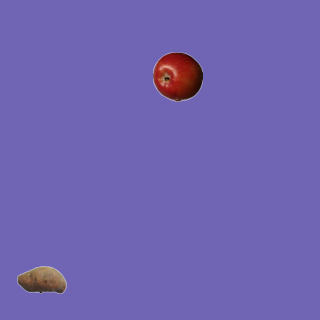Apple Braeburn: (152, 51, 202, 101)
Potato Sweet: (16, 254, 66, 304)
